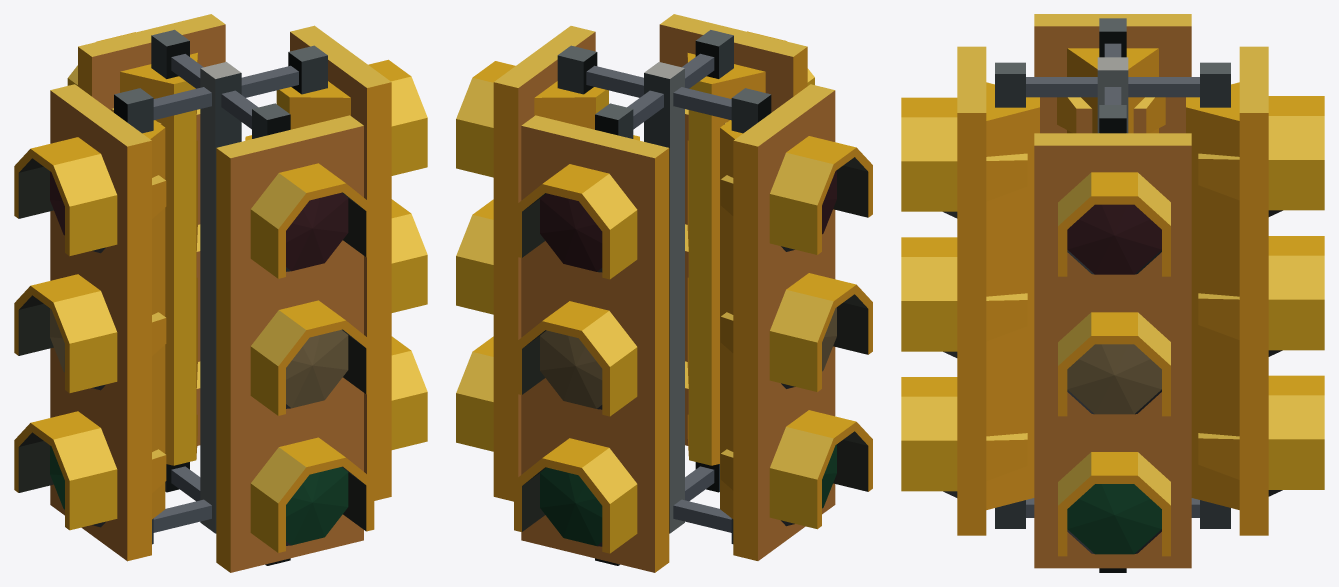
The model's file is TB_CITY_Prop_TrafficLight_4_Yellow.FBX.
3 views of the same model, side by side, from view 1: azimuth 30°, elevation 25°; view 2: azimuth 150°, elevation 25°; view 3: azimuth 270°, elevation 25° (orthographic).
Parts seen in each view (by area): view 1: TB_CITY_Prop_TrafficLight_4_Yellow; view 2: TB_CITY_Prop_TrafficLight_4_Yellow; view 3: TB_CITY_Prop_TrafficLight_4_Yellow.
Part boxes in pixels (<box>): TB_CITY_Prop_TrafficLight_4_Yellow: <box>14,14,427,572</box>; TB_CITY_Prop_TrafficLight_4_Yellow: <box>456,14,872,572</box>; TB_CITY_Prop_TrafficLight_4_Yellow: <box>901,14,1324,572</box>.
Size of the model in its own units: 2.76 by 3.33 by 2.76.
